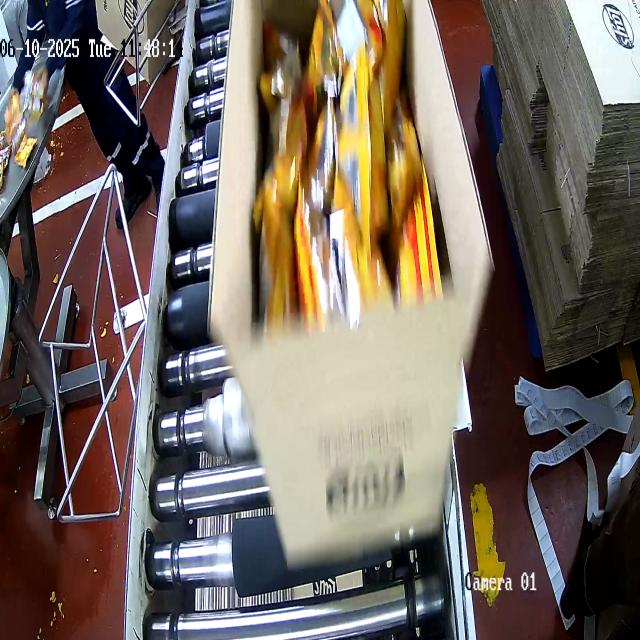FRENCH_CHEESE: (258, 6, 440, 330)
